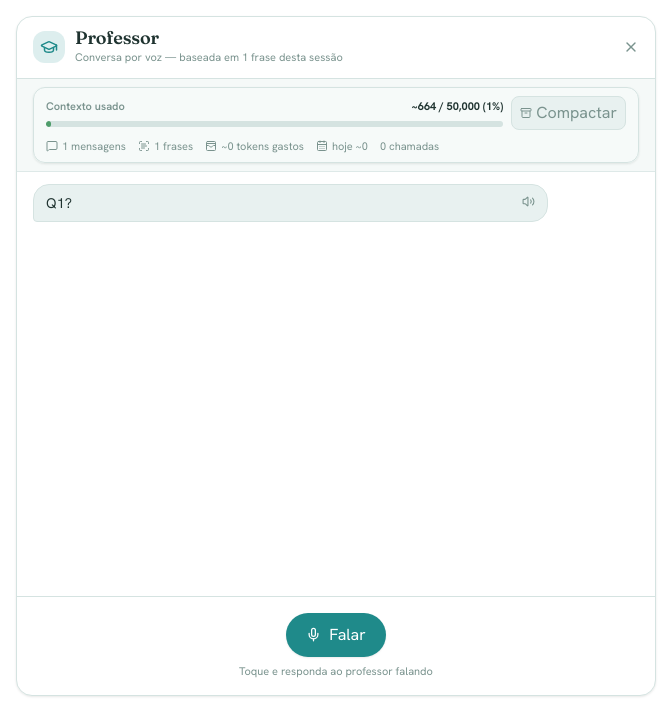
Scenario: ProfessorChat — speaking (sem digitação) › falar uma resposta vira bolha do aluno + feedback + próxima pergunta
The image size is (672, 714).
Expected: the text "Q1?" is shown, 46,194 -> 72,212
Click the button "Falar": (336, 634) 286,612 -> 386,656
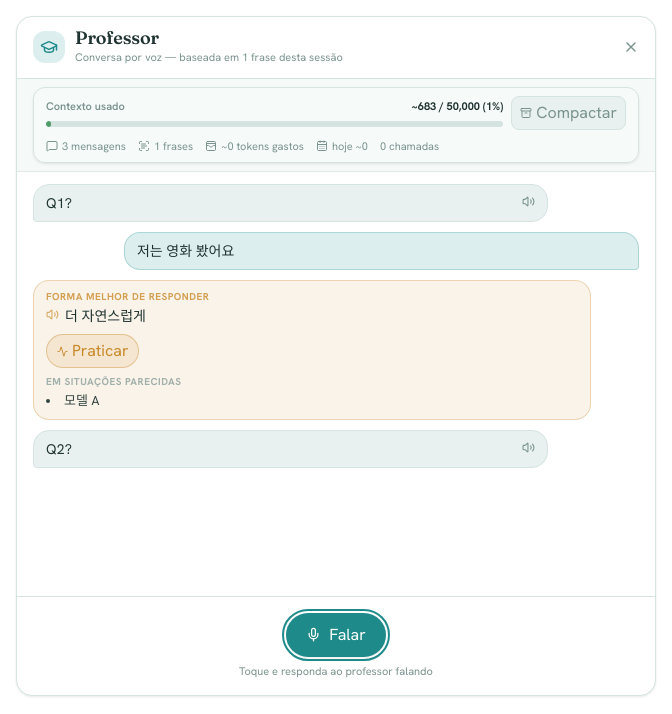
Expected: the text "저는 영화 봤어요" is shown, 124,232 -> 639,270
Expected: the text "더 자연스럽게" is shown, 65,306 -> 146,326
Expected: the list item "모델 A" is shown, 64,392 -> 100,409
